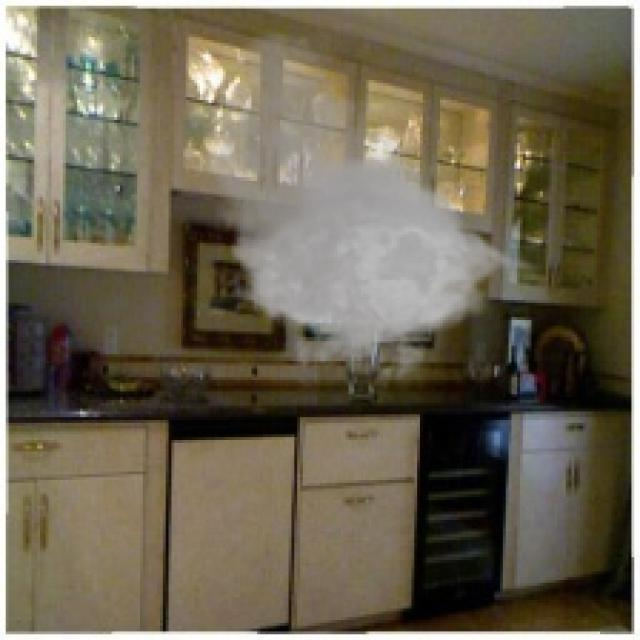Smoke: (194, 26, 546, 392)
